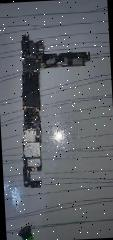electronic: (15, 30, 98, 188)
